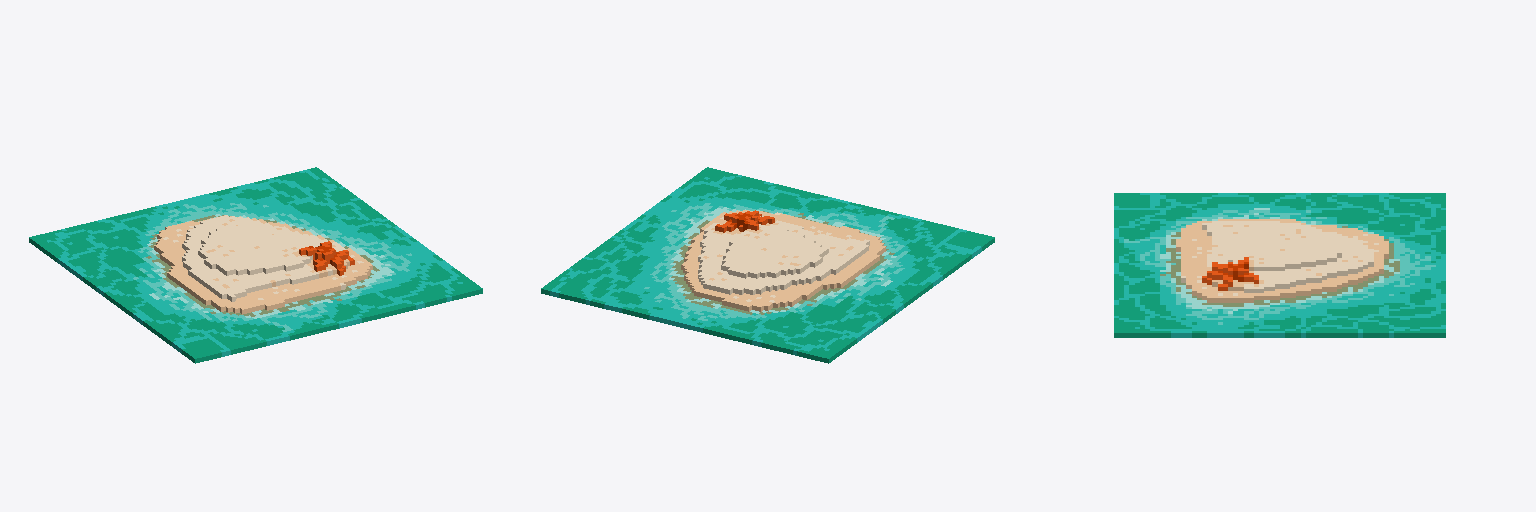
3 renders of one model, left to right at view 1: azimuth 30°, elevation 25°; view 2: azimuth 150°, elevation 25°; view 3: azimuth 270°, elevation 25°, orthographic.
Size of the model in its own units: 64 by 5 by 64.
1 materials, 1 textured.